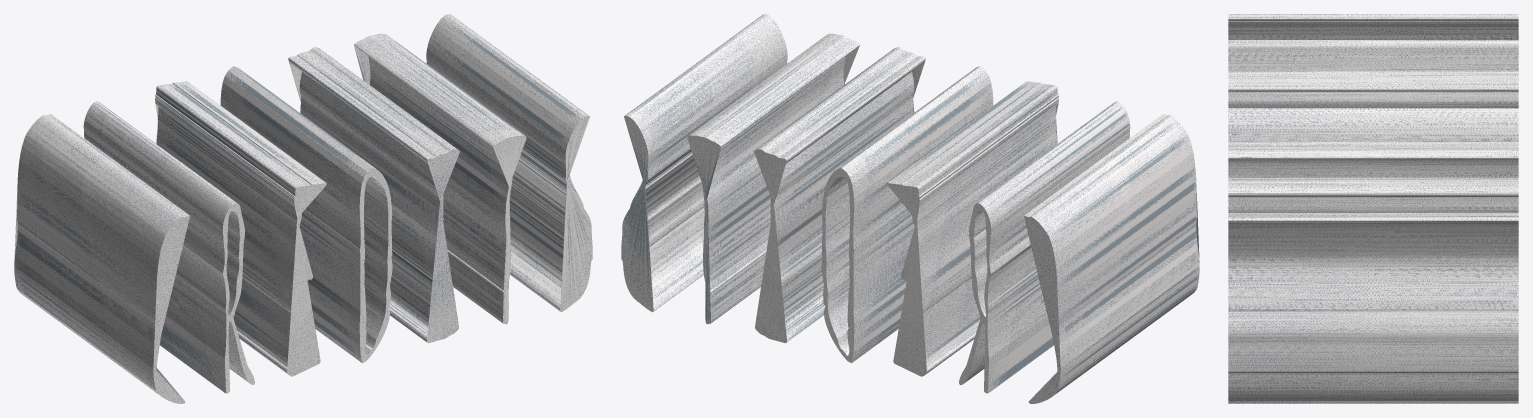
File: credits.fbx
3 views of the same model, side by side, from view 1: azimuth 30°, elevation 25°; view 2: azimuth 150°, elevation 25°; view 3: azimuth 270°, elevation 25° (orthographic). The views are drawn at different scales.
Parts seen in each view (by area): view 1: Group1; view 2: Group1; view 3: Group1.
Part boxes in pixels (<box>): Group1: <box>14,14,592,403</box>; Group1: <box>621,14,1199,403</box>; Group1: <box>1228,14,1518,403</box>.
Bounding box in the file's own units: 3647 × 1530 × 2000.
